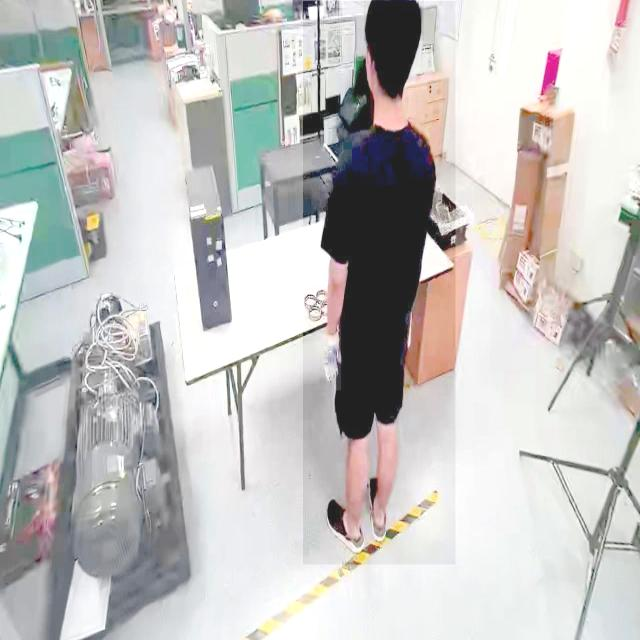hand_glove: (315, 325, 341, 391)
head_nohelmet: (364, 0, 424, 42)
person: (302, 1, 456, 565)
shoes: (325, 494, 364, 550), (366, 473, 392, 542)
